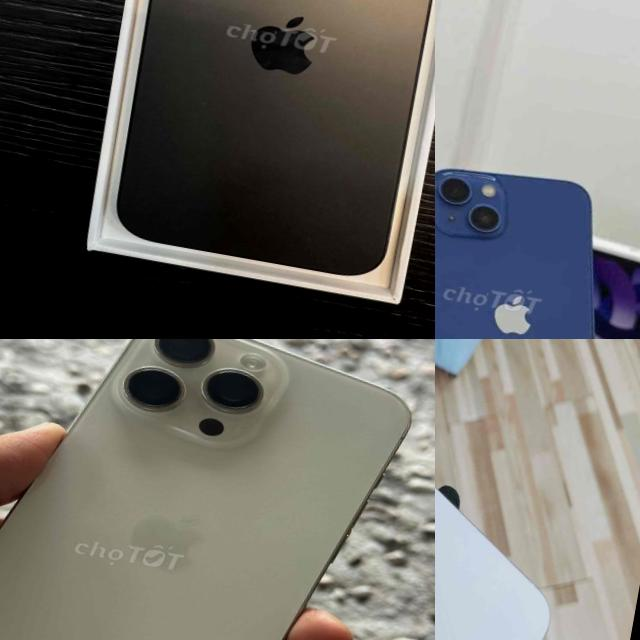gen_12_13: (435, 370, 588, 640), (435, 153, 640, 339)
gen_15: (0, 339, 423, 640), (85, 0, 435, 299)
